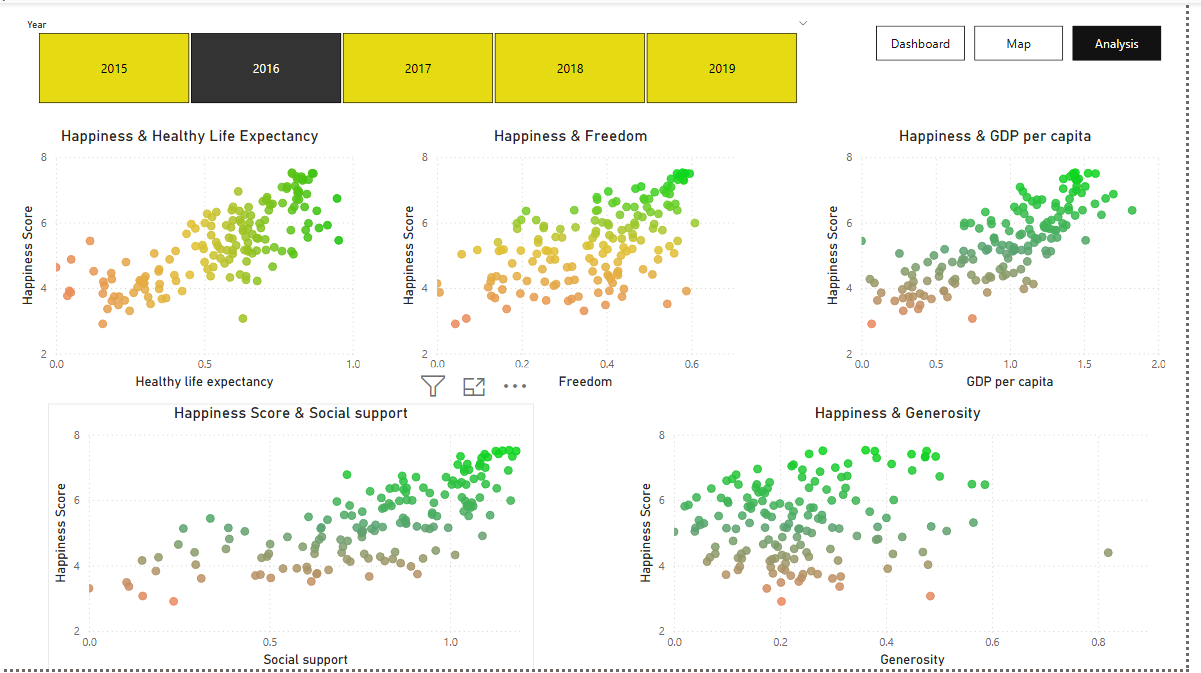

This screenshot's page, from the dashboard's own definition file:
{"tool":"powerbi","page":{"name":"Analysis","canvas":[1280,720],"ordinal":2},"visuals":[{"type":"slicer","fields":{"Values":["data.Year"]},"box":[16.7,11.7,868.3,103.3],"z":0},{"type":"scatterChart","title":"Happiness & Healthy Life Expectancy","fields":{"X":["data.Healthy life expectancy"],"Y":["data.Happiness Score"]},"box":[16.2,132.8,377.3,288.2],"z":1000},{"type":"scatterChart","title":"Happiness & Freedom","fields":{"X":["data.Freedom"],"Y":["data.Happiness Score"]},"box":[427.5,132.8,377.3,288.2],"z":2000},{"type":"scatterChart","title":" Happiness & GDP per capita ","fields":{"Y":["data.Happiness Score"],"X":["data.GDP per capita"]},"box":[885.7,132.8,377.3,288.2],"z":3000},{"type":"scatterChart","title":"Happiness Score & Social support ","fields":{"Y":["data.Happiness Score"],"X":["data.Social support"]},"box":[51.8,432.3,524.6,288.2],"z":4000},{"type":"scatterChart","title":"Happiness & Generosity ","fields":{"X":["data.Generosity"],"Y":["data.Happiness Score"]},"box":[683.3,431.7,571.7,288.3],"z":5000},{"type":"pageNavigator","box":[945.6,24.3,309.3,38.9],"z":6000}]}

Visuals, with their boxes on the page's 1280x720 design canvas (x1, y1, x2, y2). These are canvas units, not pixel positions in the 1201x673 screenshot, which may show the page scaled, cropped or inside an application window:
slicer - data.Year: 17:12:885:115
"Happiness & Healthy Life Expectancy" scatterChart: 16:133:394:421
"Happiness & Freedom" scatterChart: 428:133:805:421
" Happiness & GDP per capita " scatterChart: 886:133:1263:421
"Happiness Score & Social support " scatterChart: 52:432:576:720
"Happiness & Generosity " scatterChart: 683:432:1255:720
pageNavigator: 946:24:1255:63
